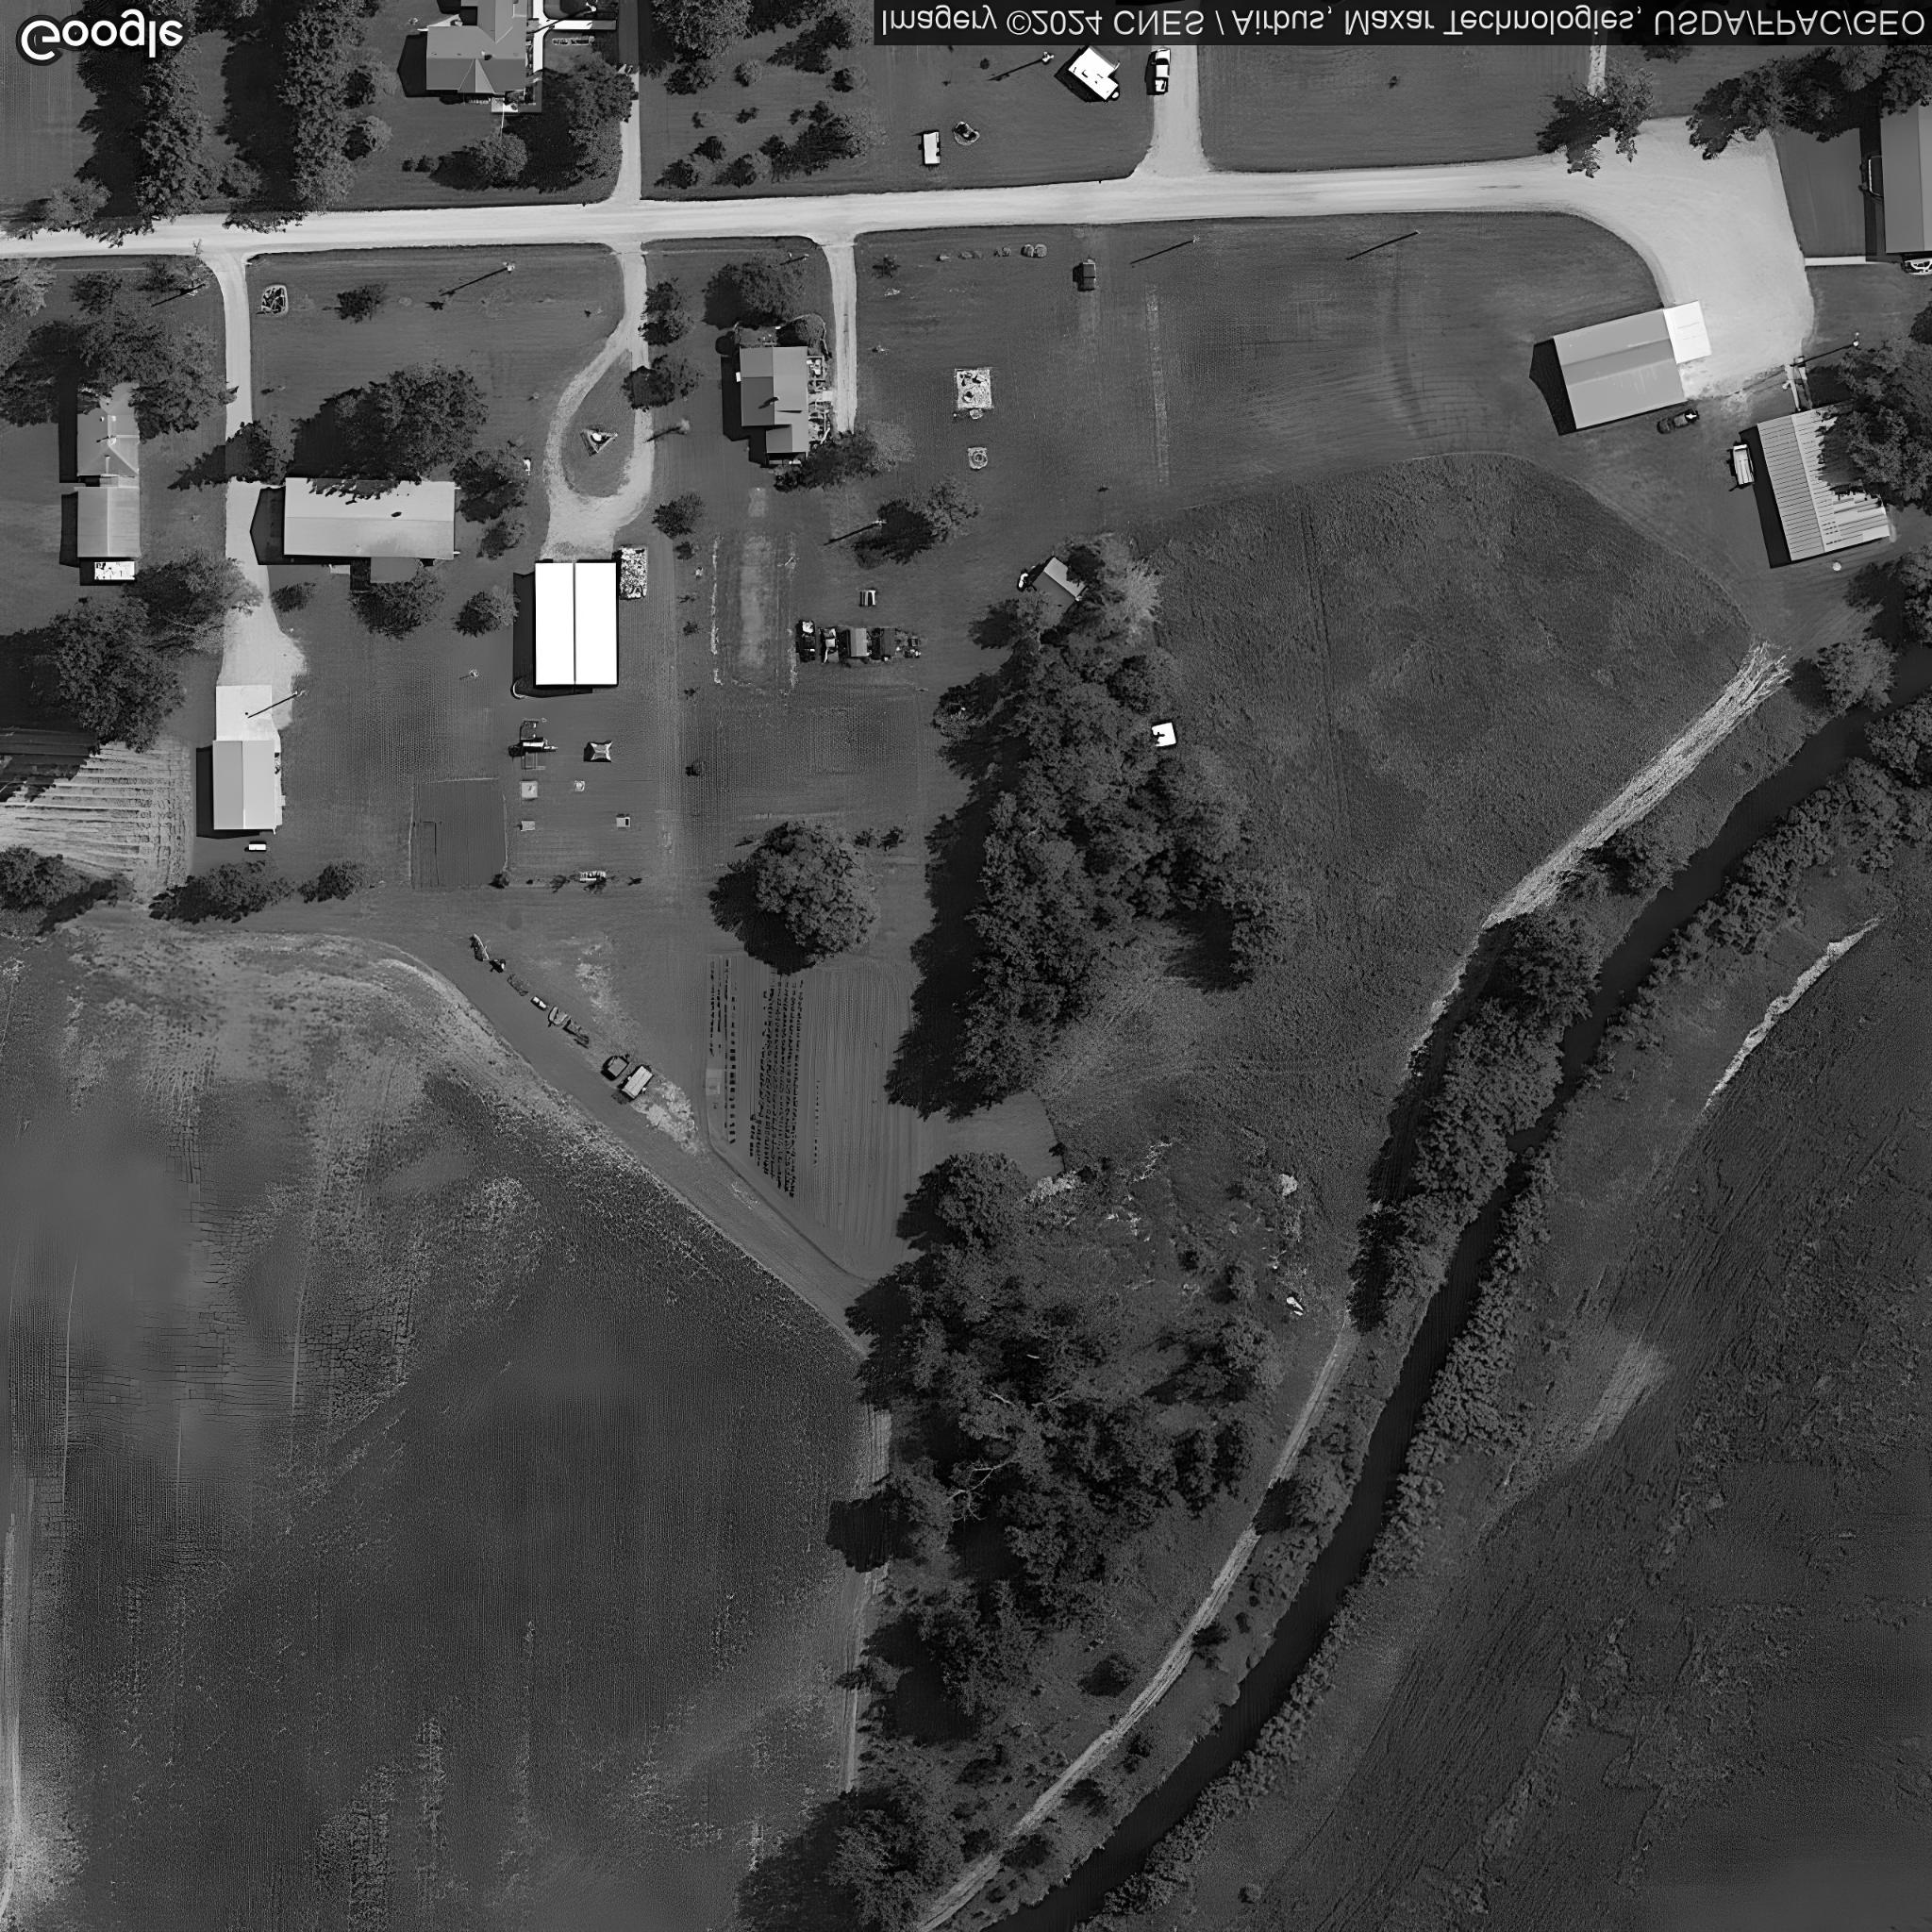Garage: (1757, 395, 1891, 559), (1553, 308, 1688, 430), (285, 478, 455, 557), (533, 561, 621, 685), (211, 738, 274, 830)
House: (74, 380, 142, 557), (426, 0, 529, 92), (1882, 101, 1932, 251), (740, 347, 809, 453)
Propane: (1014, 570, 1030, 591), (520, 741, 545, 750), (244, 844, 267, 853)
